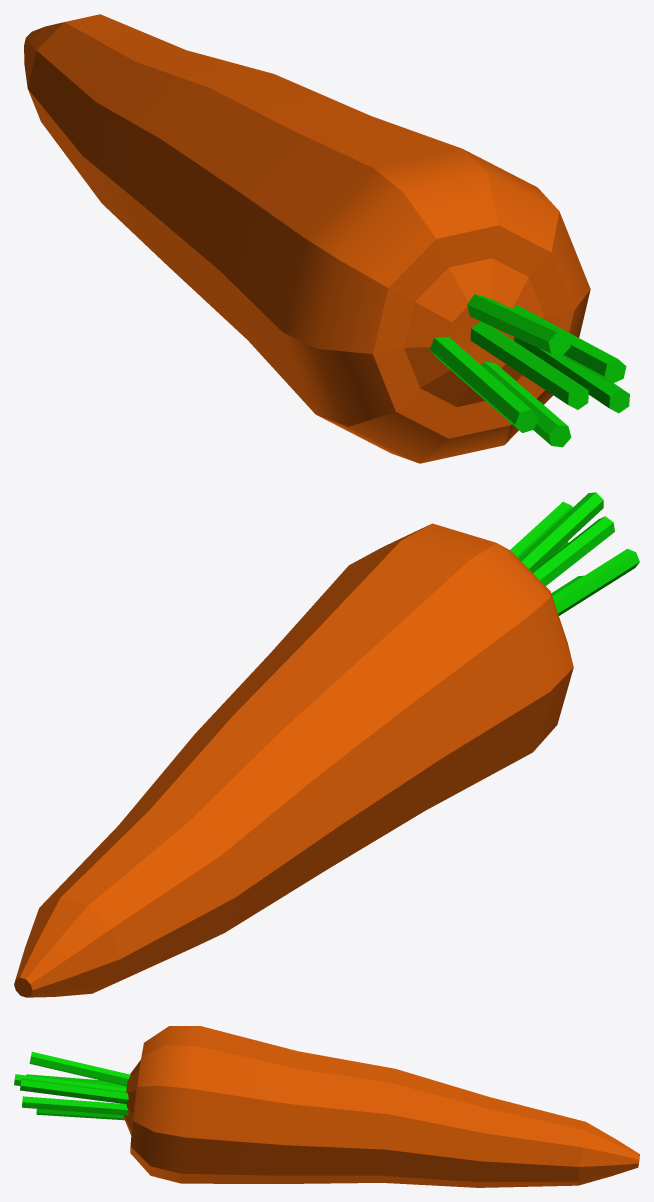
Rendered from Harvey - Carrot.fbx.
The picture shows the model from 3 angles, top to bottom: view 1: azimuth 30°, elevation 25°; view 2: azimuth 150°, elevation 25°; view 3: azimuth 270°, elevation 25°; orthographic projection. The views are drawn at different scales.
Visible parts, largest first — view 1: Carrot2; view 2: Carrot2; view 3: Carrot2.
Part boxes in pixels (x1,y1,x2,y2): Carrot2: (24, 14, 629, 463); Carrot2: (14, 492, 639, 997); Carrot2: (14, 1026, 639, 1187).
Size of the model in its own units: 1.37 by 1.31 by 5.39.
